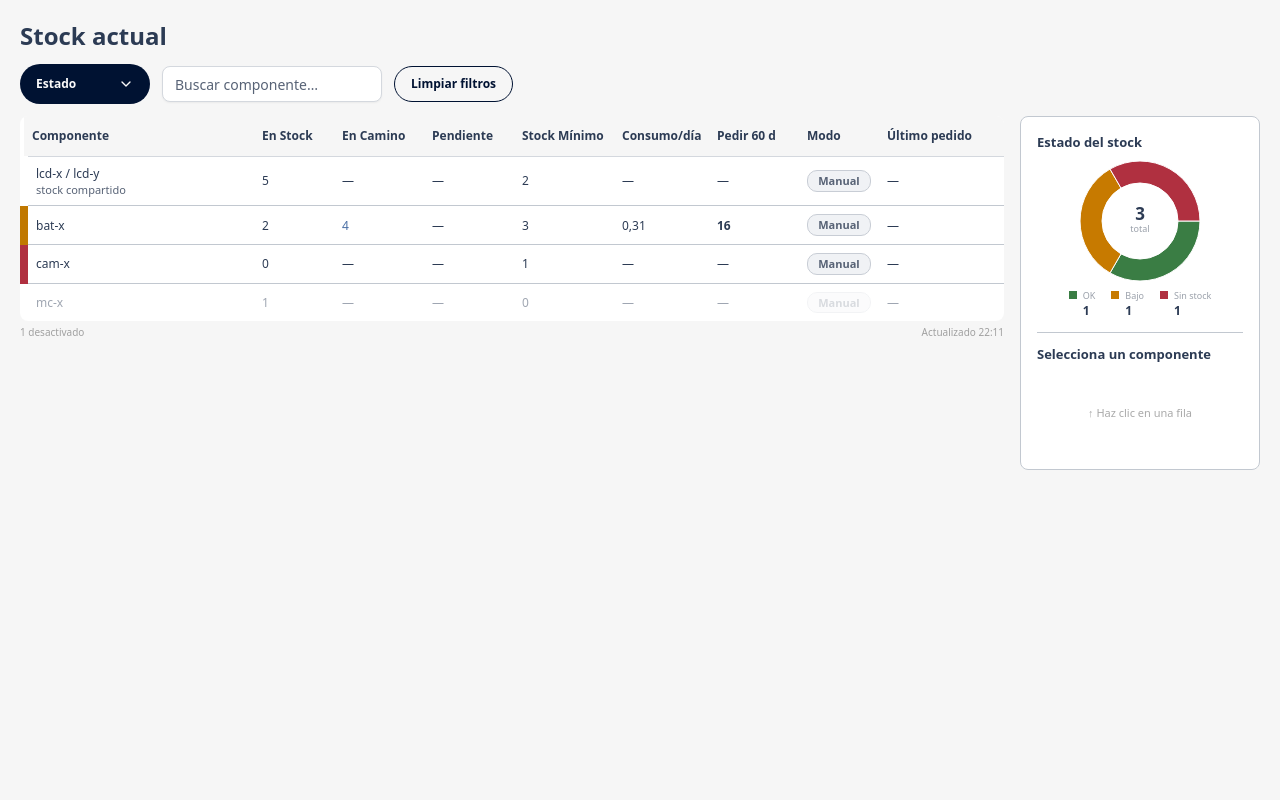
Test: StockPage › filtro Estado: casillas sin cerrar el desplegable, texto "N estados", "Desactivado" solo si hay; Limpiar filtros
Check: the text "lcd-x / lcd-y" is shown, box [36,164,99,182]
Click the button "Estado": point(85, 84) [20,64,150,104]
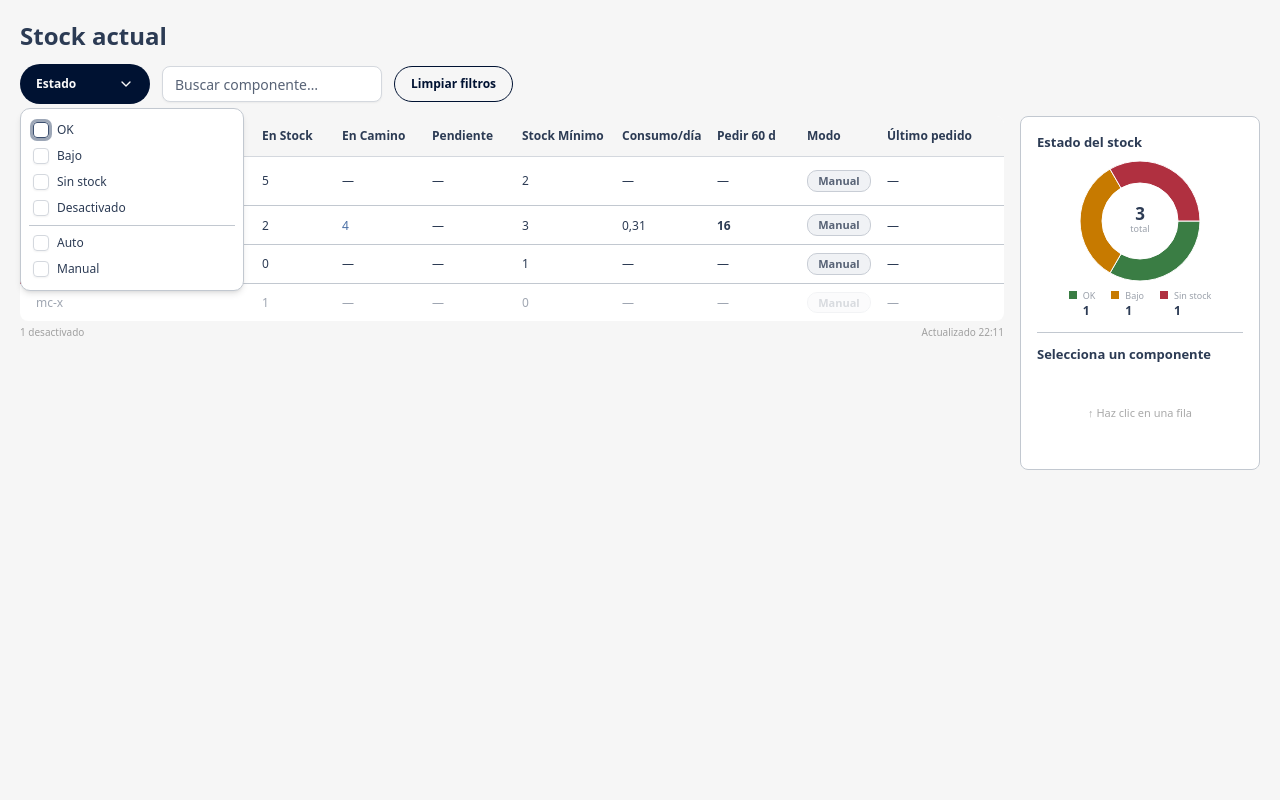
Click the checkbox named "Bajo": point(41, 156) [33,148,49,164]
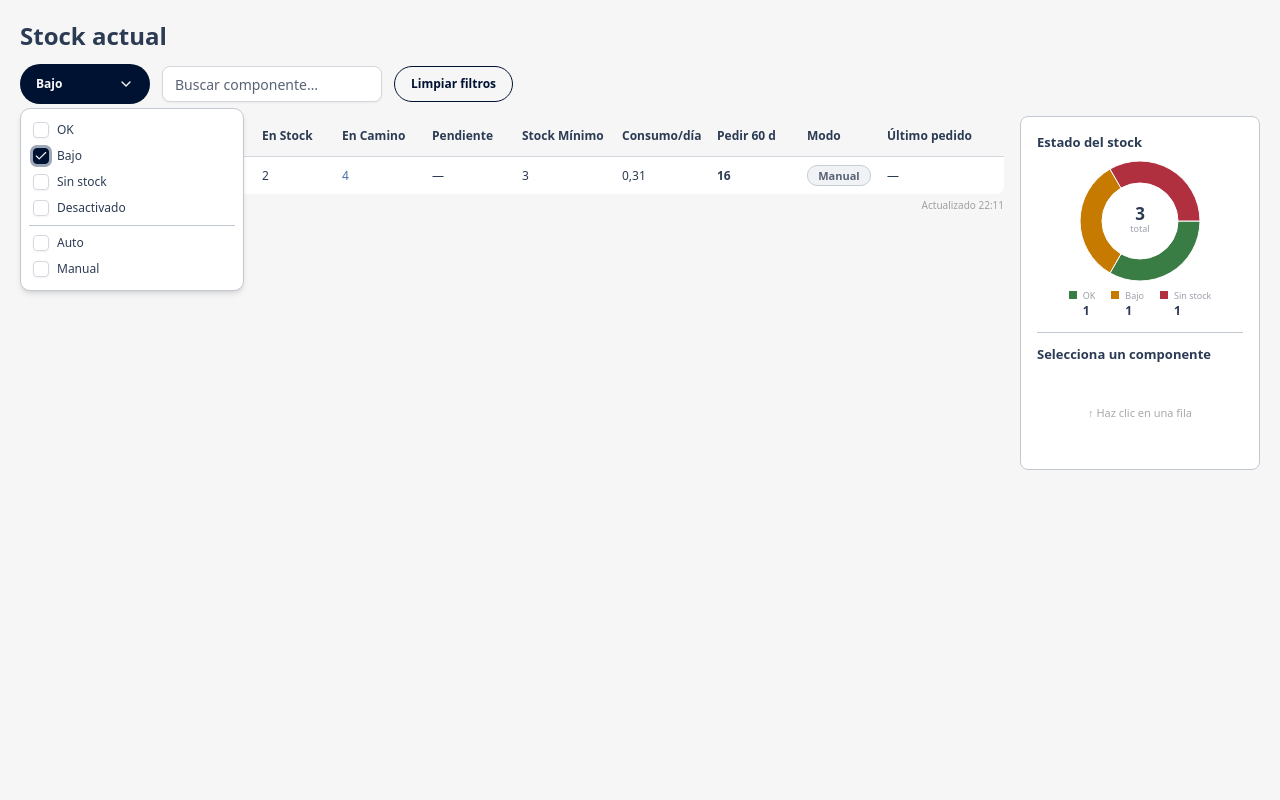
Check: the checkbox named "Sin stock" is shown
Check: the button "Bajo" is shown, box [20,64,150,104]
Click the checkbox named "Sin stock": point(41, 182) [33,174,49,190]
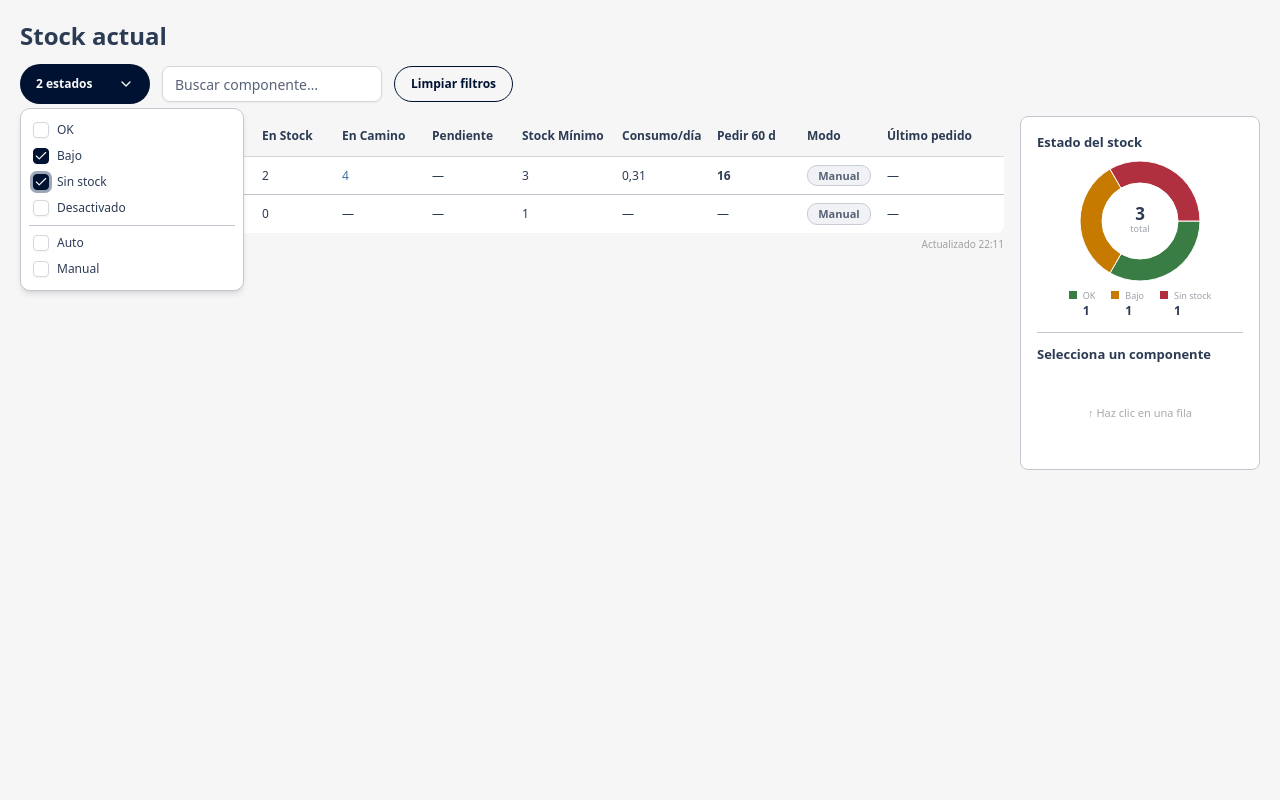
Press Escape
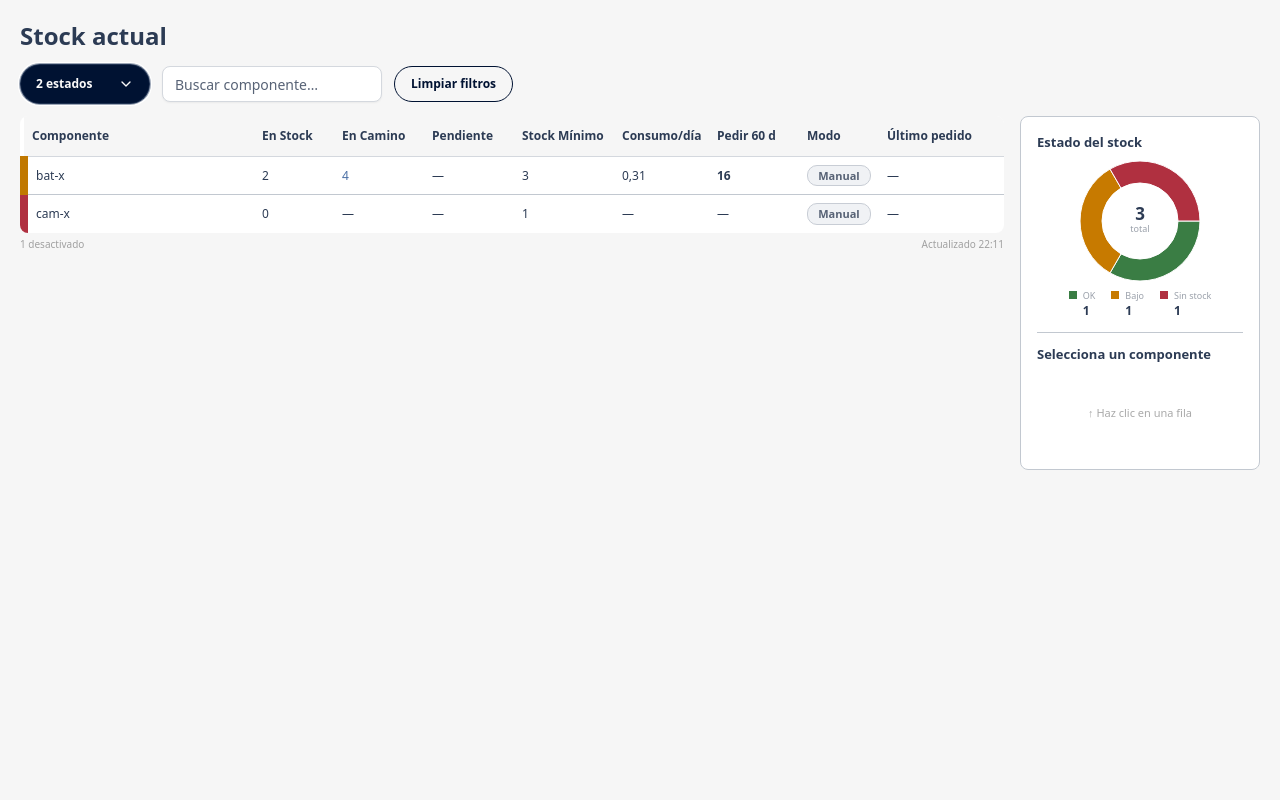
Check: the text "lcd-x / lcd-y" is not shown
Check: the button "2 estados" is shown, box [20,64,150,104]
Click the button "Limpiar filtros": point(454, 84) [394,66,513,102]
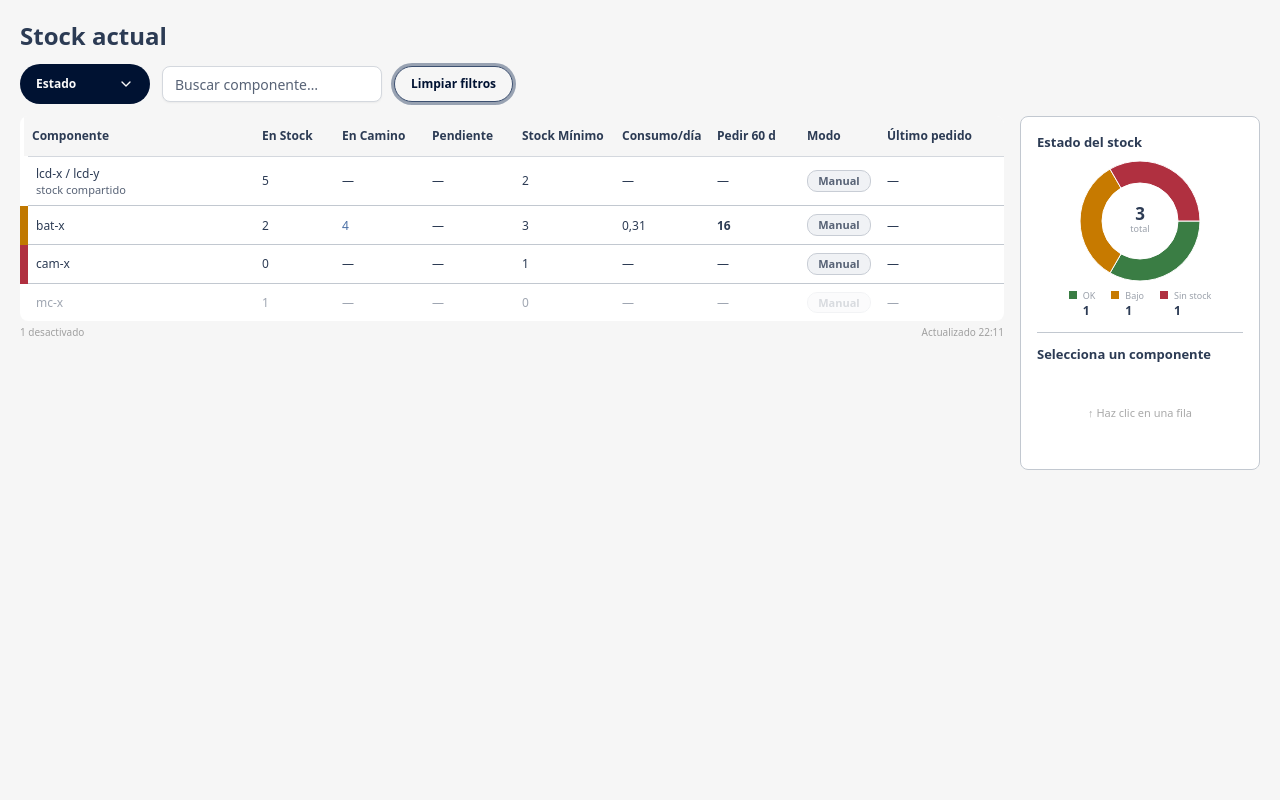
Check: the button "Estado" is shown, box [20,64,150,104]
Check: the text "lcd-x / lcd-y" is shown, box [36,164,99,182]
